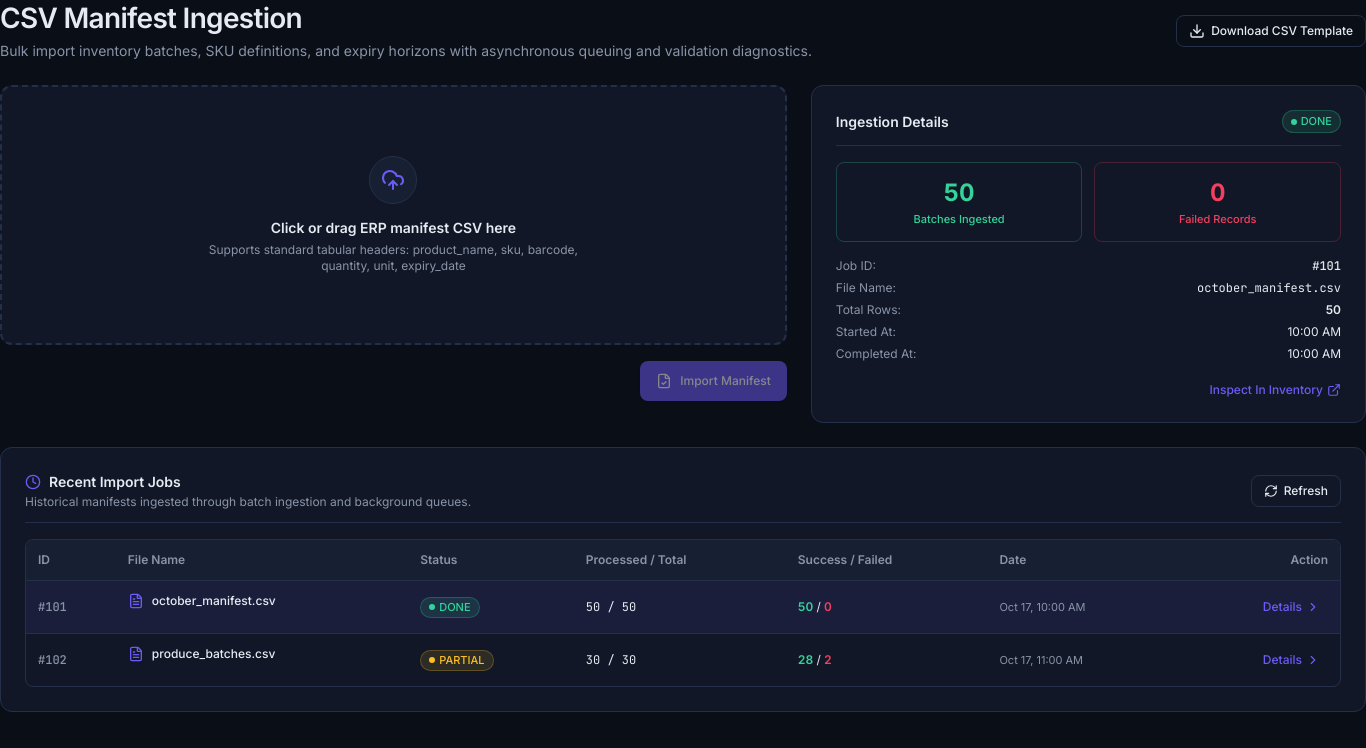
Test case: BusinessImportPage - Async CSV Import & Diagnostics › selecting a previous job displays its details and failed rows breakdown
The width and height of the screenshot is (1366, 748).
Expected: the text "produce_batches.csv" is shown, [152, 646, 275, 662]
Click the text "produce_batches.csv" at (214, 654), box [26, 634, 1340, 686]
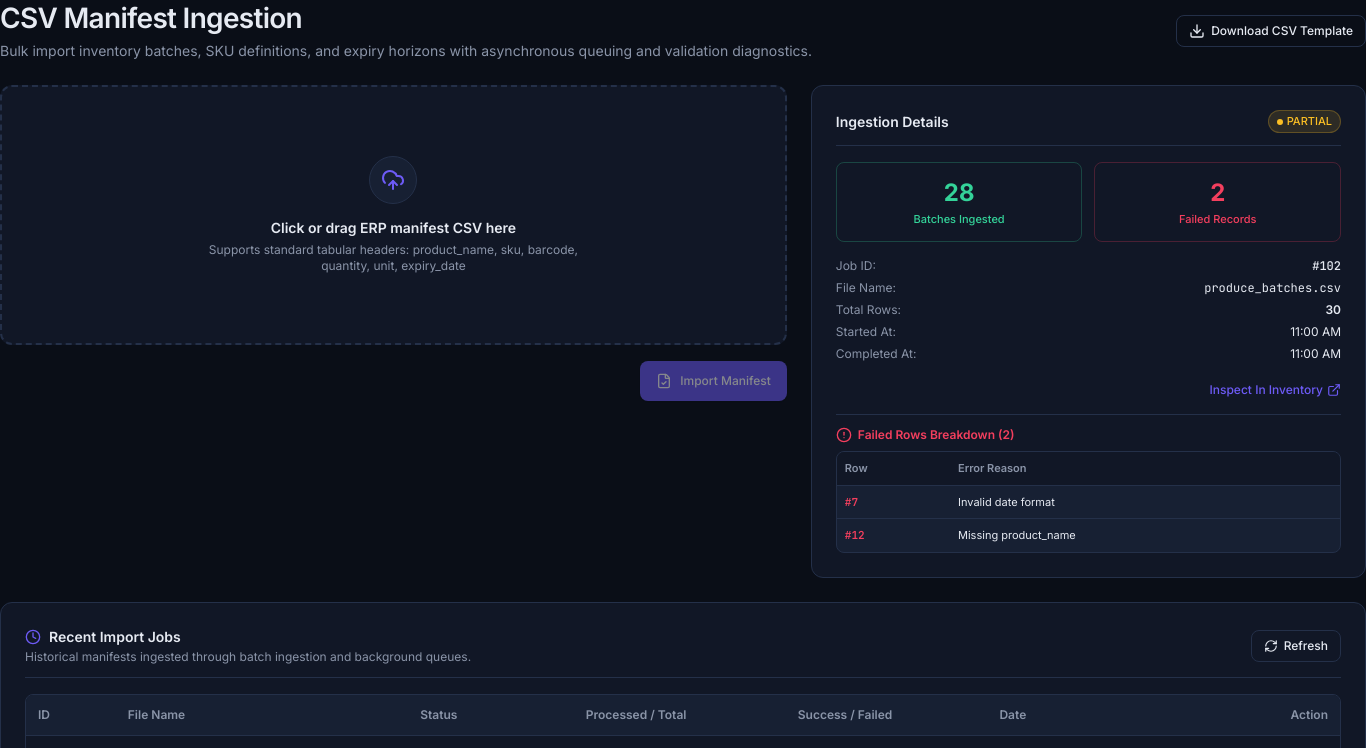
Result: the text "Failed Rows Breakdown (2)" is shown at [836, 427, 1014, 443]
Result: the text "Invalid date format" is shown at [950, 485, 1340, 519]
Result: the text "Missing product_name" is shown at [950, 519, 1340, 552]
